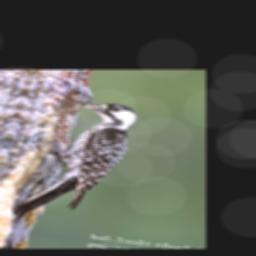Woodpecker: (13, 96, 143, 230)
